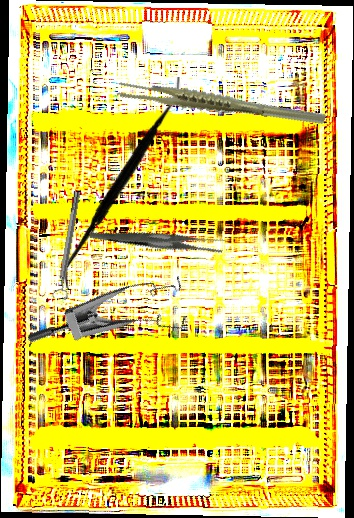Dressing Forceps: (89, 190, 227, 288)
Fixation Ring: (50, 190, 87, 301)
Spatula Surgical: (60, 76, 187, 289)
Speculum: (24, 249, 204, 402)
Tissue Forceps: (115, 46, 327, 163)
